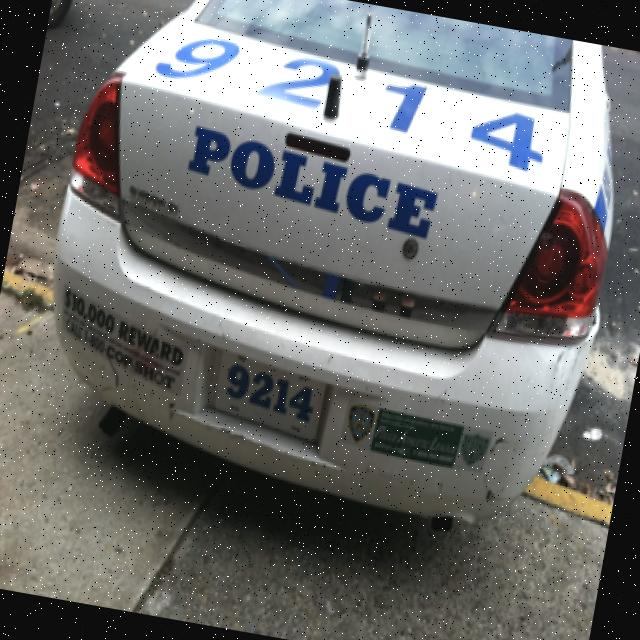Autre: (196, 337, 336, 448)
